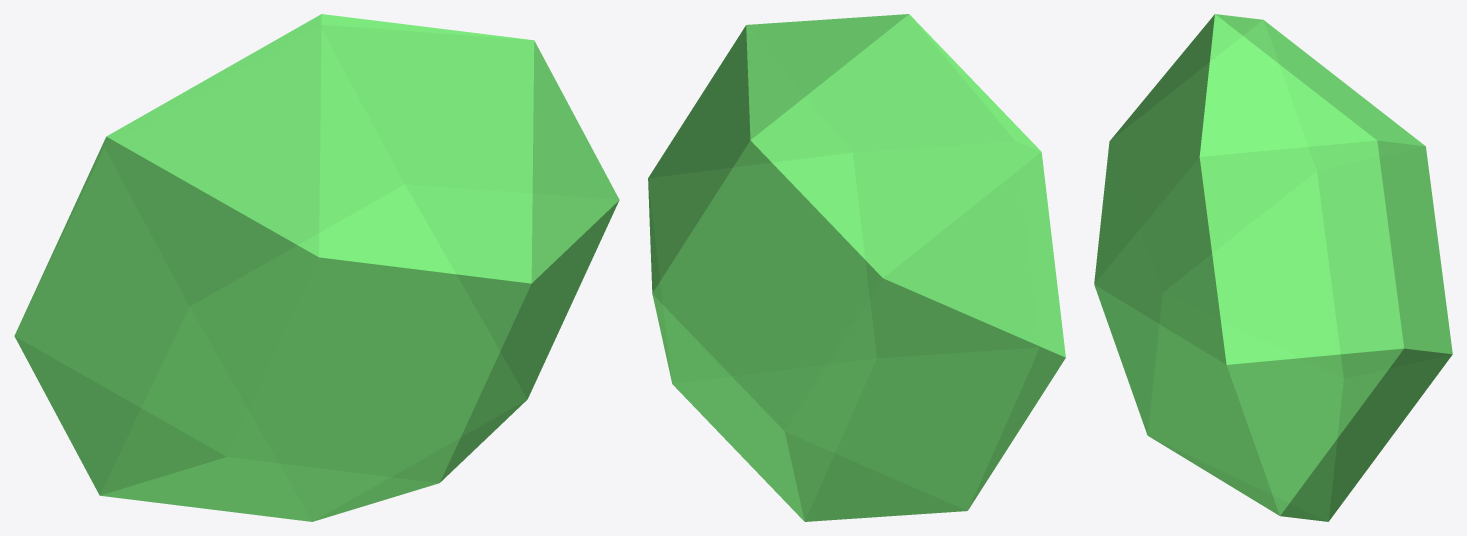
Rendered from j29_square_gyrobicupola.obj.
3 views of the same model, side by side, from view 1: azimuth 30°, elevation 25°; view 2: azimuth 150°, elevation 25°; view 3: azimuth 270°, elevation 25° (orthographic). The views are drawn at different scales.
Bounding box in the file's own units: 2.21 × 2.19 × 1.47.
